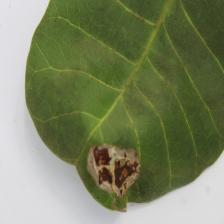leaf miner: (24, 0, 224, 212), (86, 142, 140, 199)
